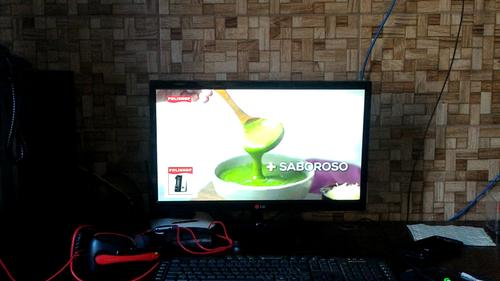Polishop #1: (163, 160, 199, 198)
